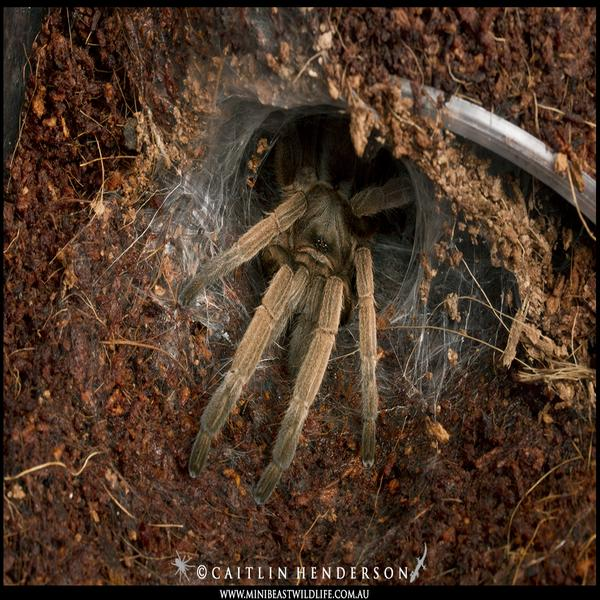Tarantula Spider: (192, 145, 411, 485)
